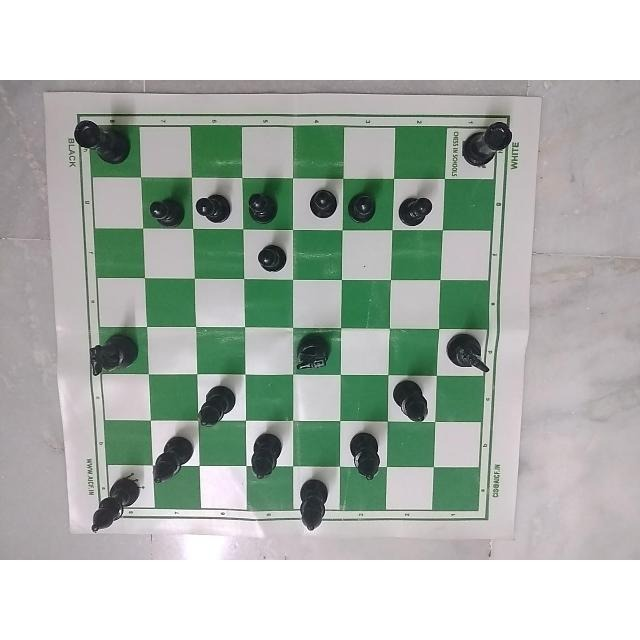black-bishop: (85, 469, 137, 538), (150, 432, 195, 486), (195, 379, 237, 435), (296, 479, 338, 533), (347, 427, 384, 483), (394, 375, 432, 427), (248, 426, 282, 482)
black-knight: (82, 332, 138, 380), (287, 334, 339, 378), (446, 332, 490, 374)
black-pawn: (390, 190, 436, 227), (148, 192, 188, 233), (244, 241, 291, 275), (196, 193, 237, 231), (244, 188, 285, 225), (348, 185, 382, 223), (308, 185, 341, 218)
black-rook: (459, 117, 519, 172), (69, 116, 130, 168)
